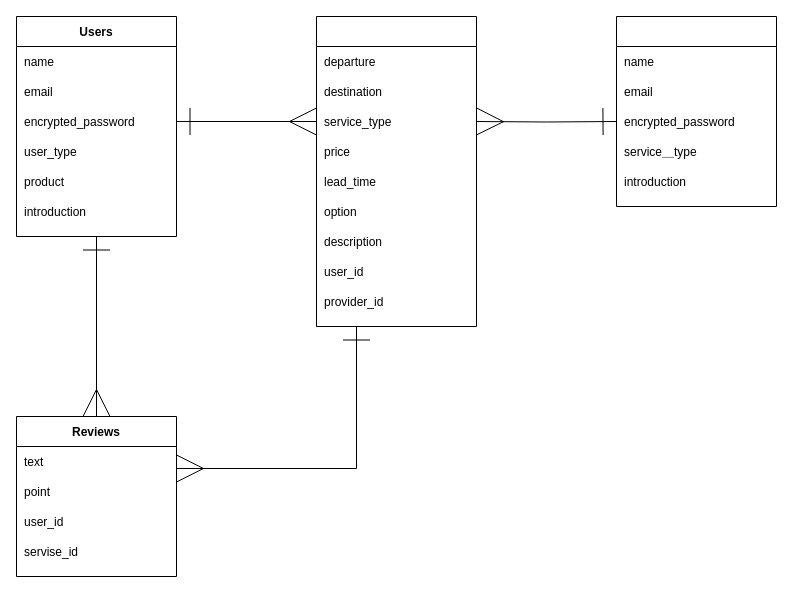
Image size: 793x593. Some labels were removed from this diagram. Here are the shapes that lost their labels. From the top down, the box of each, then its label:
(616, 16, 776, 206): Providers
(316, 16, 476, 326): Services
